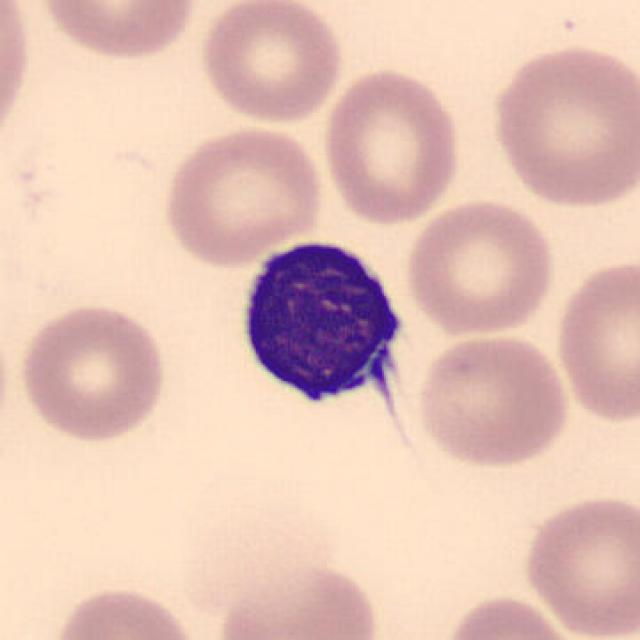Lymphocyte: (228, 226, 420, 421)
RBC: (486, 38, 638, 212), (157, 122, 327, 268), (318, 64, 466, 228), (412, 328, 574, 471), (14, 300, 171, 446), (400, 194, 558, 338), (196, 0, 346, 127), (518, 490, 638, 638), (550, 254, 638, 427), (208, 557, 384, 640), (34, 0, 201, 63), (44, 582, 208, 640), (439, 590, 585, 640), (0, 0, 34, 155)
